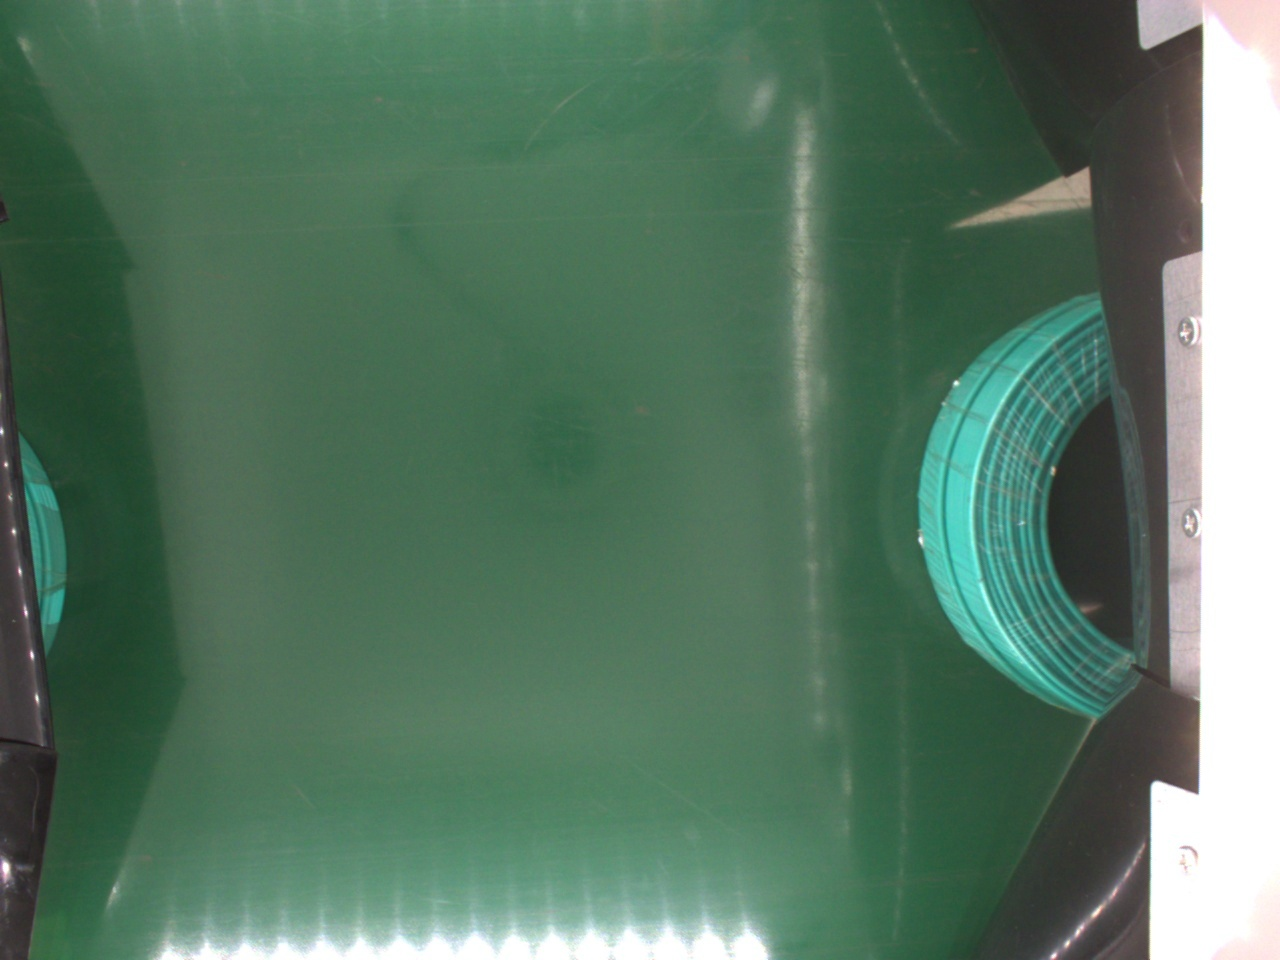green: (913, 292, 1143, 708)
